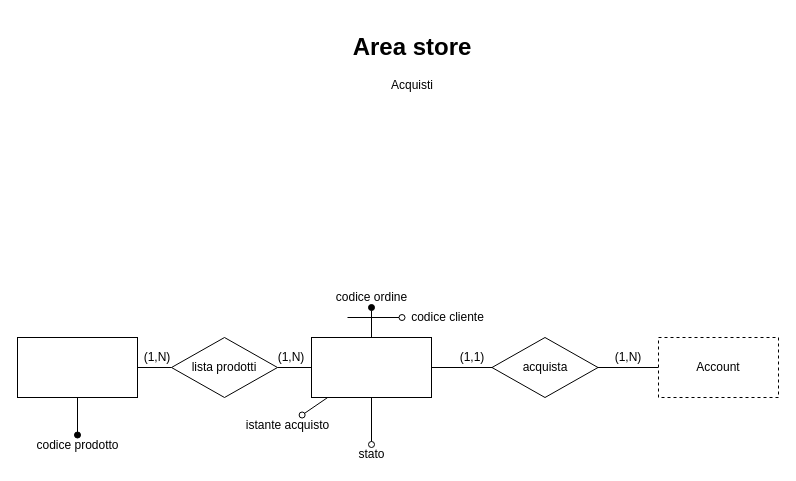
The diagram is 796 pixels wide and 481 high, and some of its shapes have lost their labels. Each missing label, with the centre of its shape:
"Ordine Prodotti" belongs at (x=371, y=367).
"Prodotto" belongs at (x=77, y=367).
